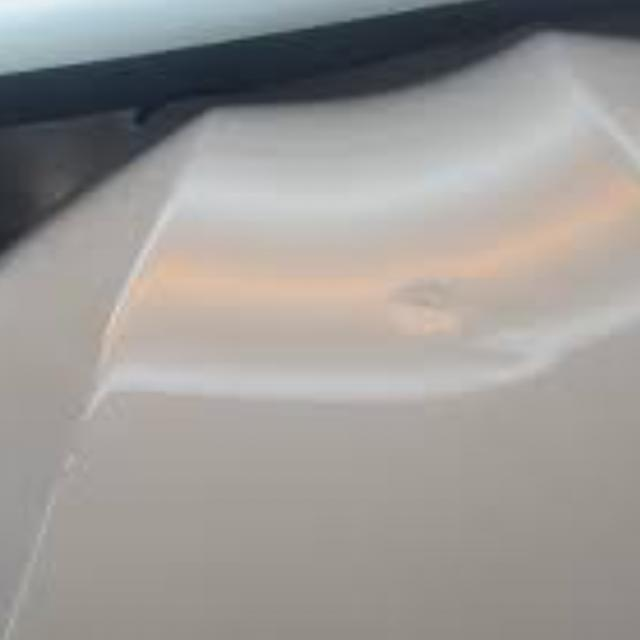dents: (438, 345, 564, 409), (371, 269, 474, 333)
